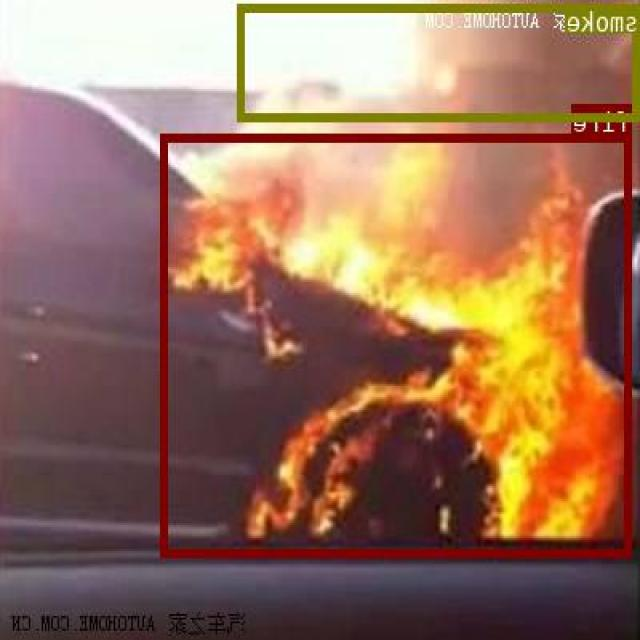fire: (163, 132, 633, 555)
smoke: (240, 2, 640, 120)
